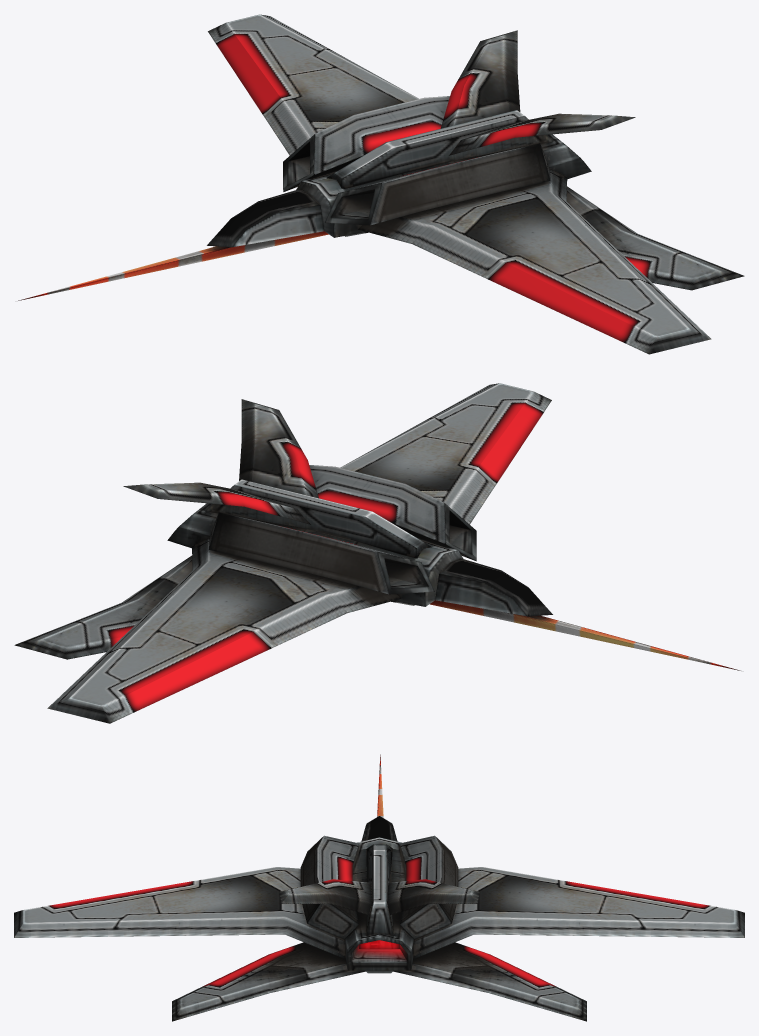
Rendered from small_fighter_1.FBX.
3 views of the same model, one above another, from view 1: azimuth 30°, elevation 25°; view 2: azimuth 150°, elevation 25°; view 3: azimuth 270°, elevation 25° (orthographic). The views are drawn at different scales.
Visible parts, largest first — view 1: small_fighter_1; view 2: small_fighter_1; view 3: small_fighter_1.
Boxes of the visible parts, left/top/right/bottom form: small_fighter_1: left=18, top=14, right=744, bottom=354; small_fighter_1: left=14, top=383, right=740, bottom=723; small_fighter_1: left=14, top=754, right=744, bottom=1021.
Size of the model in its own units: 384 by 75.98 by 486.
1 material, 1 textured.
